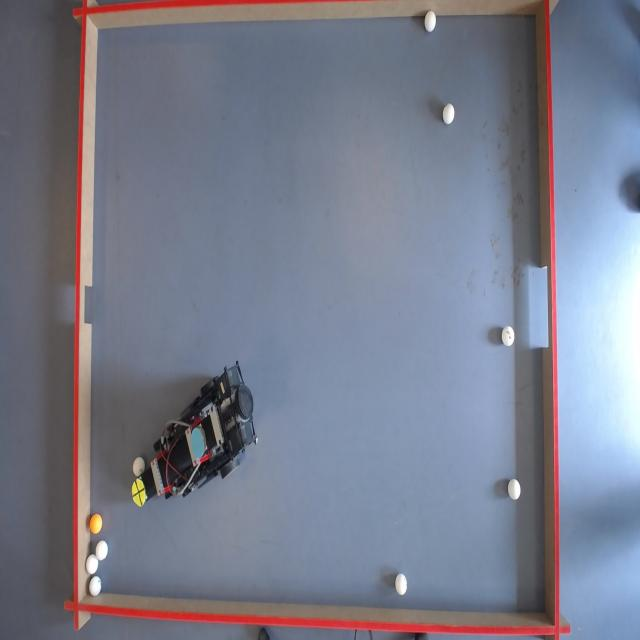orange: (89, 514, 104, 533)
robot: (123, 364, 261, 504)
robot-front: (132, 479, 146, 507)
robot-rear: (188, 427, 205, 457)
white: (510, 480, 524, 502), (424, 10, 438, 31), (395, 574, 408, 596), (85, 554, 99, 574), (444, 104, 457, 125), (90, 577, 103, 597), (96, 540, 109, 560), (502, 326, 515, 345), (133, 457, 145, 475)
